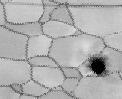good_void: (85, 51, 110, 77)
